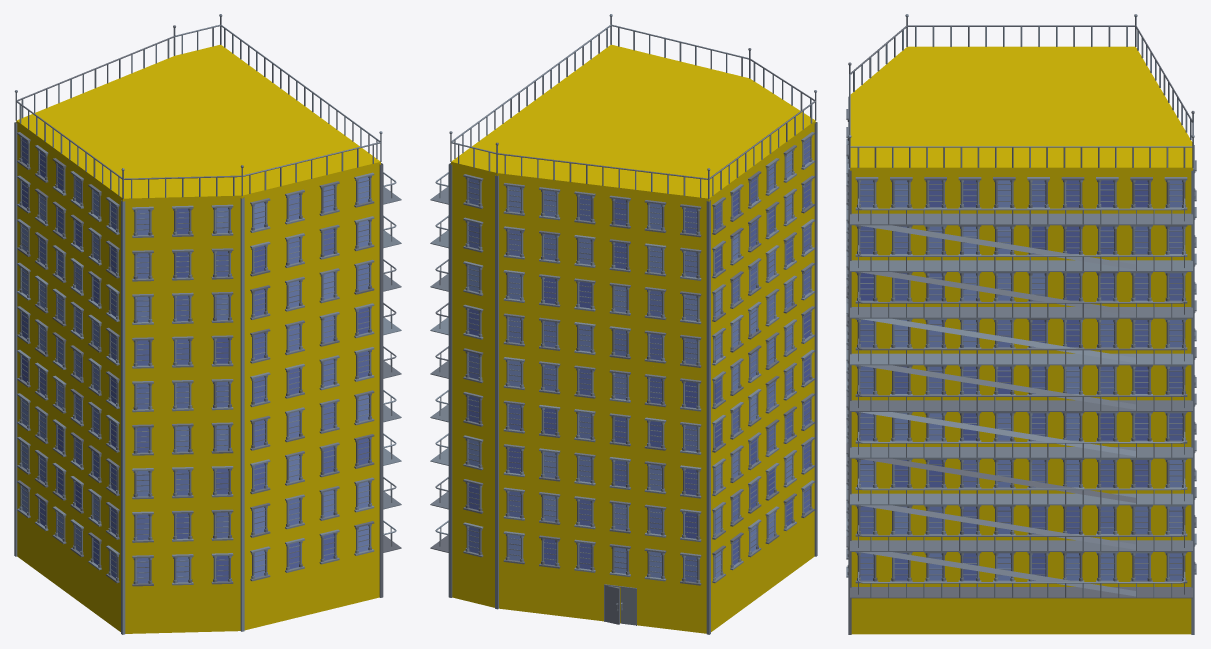
Rendered from Building Procedural.024.fbx.
The picture shows the model from 3 angles, left to right: view 1: azimuth 30°, elevation 25°; view 2: azimuth 150°, elevation 25°; view 3: azimuth 270°, elevation 25°; orthographic projection. The views are drawn at different scales.
Visible parts, largest first — view 1: Building Procedural.024; view 2: Building Procedural.024; view 3: Building Procedural.024.
Part boxes in pixels (x1,y1,x2,y2): Building Procedural.024: (14, 14, 401, 634); Building Procedural.024: (430, 14, 817, 634); Building Procedural.024: (846, 14, 1196, 634).
Size of the model in its own units: 1838 by 3210 by 2040.
